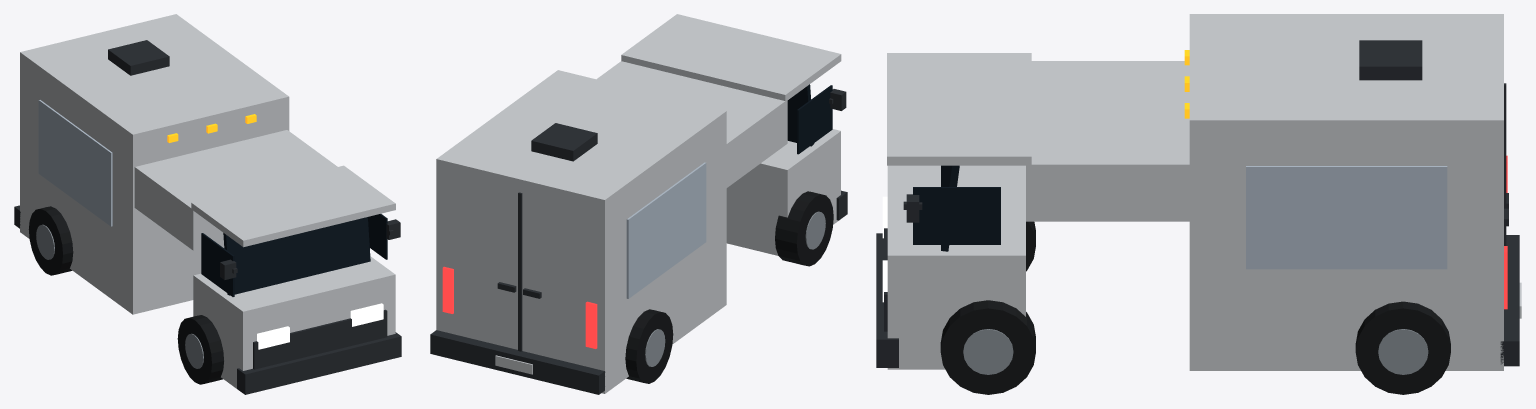
File: van.glb
3 renders of one model, left to right at view 1: azimuth 30°, elevation 25°; view 2: azimuth 150°, elevation 25°; view 3: azimuth 270°, elevation 25°, orthographic. The views are drawn at different scales.
Visible parts, largest first — view 1: cargo, cab, cabfill, cabroof, vshield, vlogo, vbump, grille, vtire, vtire.001, vent, cabwin (+5 smaller); view 2: cargo, cabroof, cab, cabfill, vlogo, rbumper, vtire, vtire.001, vent, cabwin, rearseam, vshield (+5 smaller); view 3: cargo, cabfill, vlogo.001, cab, cabroof, vtire.002, vtire.003, cabwin.001, vent, rbumper, vrim.003, vrim.002 (+1 smaller).
Part boxes in pixels (box(x1,y1,x2,y2)): cargo: box(20, 14, 289, 314); cab: box(193, 256, 395, 388); cabfill: box(134, 130, 337, 250); cabroof: box(191, 165, 395, 247); vshield: box(223, 217, 370, 295); vlogo: box(38, 100, 112, 226); vbump: box(237, 332, 401, 394); grille: box(253, 309, 387, 369); vtire: box(177, 315, 223, 384); vtire.001: box(28, 206, 73, 275); vent: box(108, 40, 169, 75); cabwin: box(201, 233, 234, 296); cargo: box(436, 70, 726, 393); cabroof: box(621, 14, 841, 101); cab: box(726, 129, 840, 255); cabfill: box(597, 61, 787, 187); vlogo: box(626, 162, 706, 298); rbumper: box(430, 330, 605, 394); vtire: box(775, 191, 833, 266); vtire.001: box(625, 309, 673, 383); vent: box(531, 123, 597, 161); cabwin: box(797, 85, 832, 154); rearseam: box(518, 192, 522, 351); vshield: box(787, 84, 814, 146); cargo: box(1189, 14, 1503, 370); cabfill: box(1026, 61, 1189, 221); vlogo.001: box(1246, 166, 1447, 269); cab: box(887, 165, 1025, 369); cabroof: box(887, 53, 1031, 165); vtire.002: box(940, 300, 1035, 394); vtire.003: box(1355, 301, 1450, 394); cabwin.001: box(913, 187, 1000, 244); vent: box(1359, 40, 1422, 80); rbumper: box(1500, 235, 1519, 366); vrim.003: box(1378, 329, 1428, 374); vrim.002: box(963, 329, 1013, 374).
Size of the model in its own units: 2.28 by 2.47 by 5.13.
